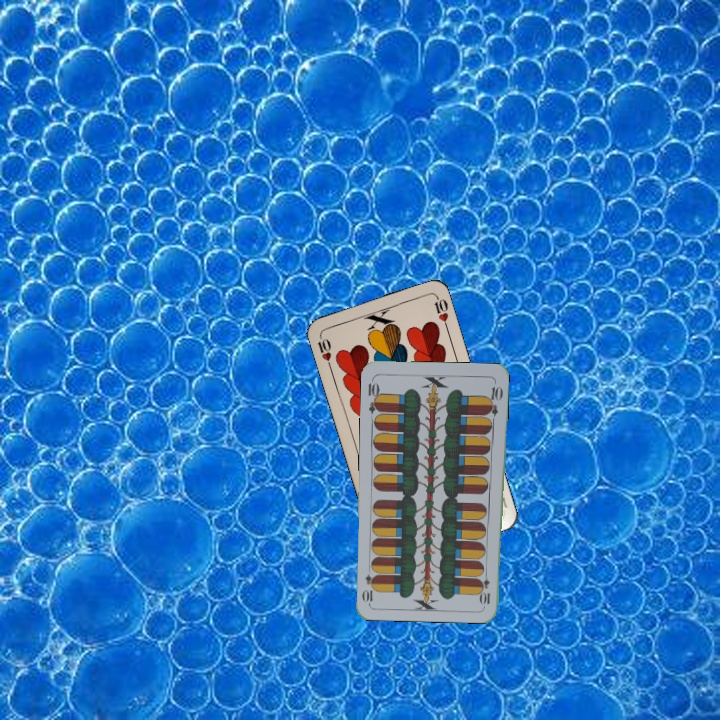E10: (364, 375, 383, 415), (479, 566, 493, 607)
H10: (313, 330, 334, 370)
